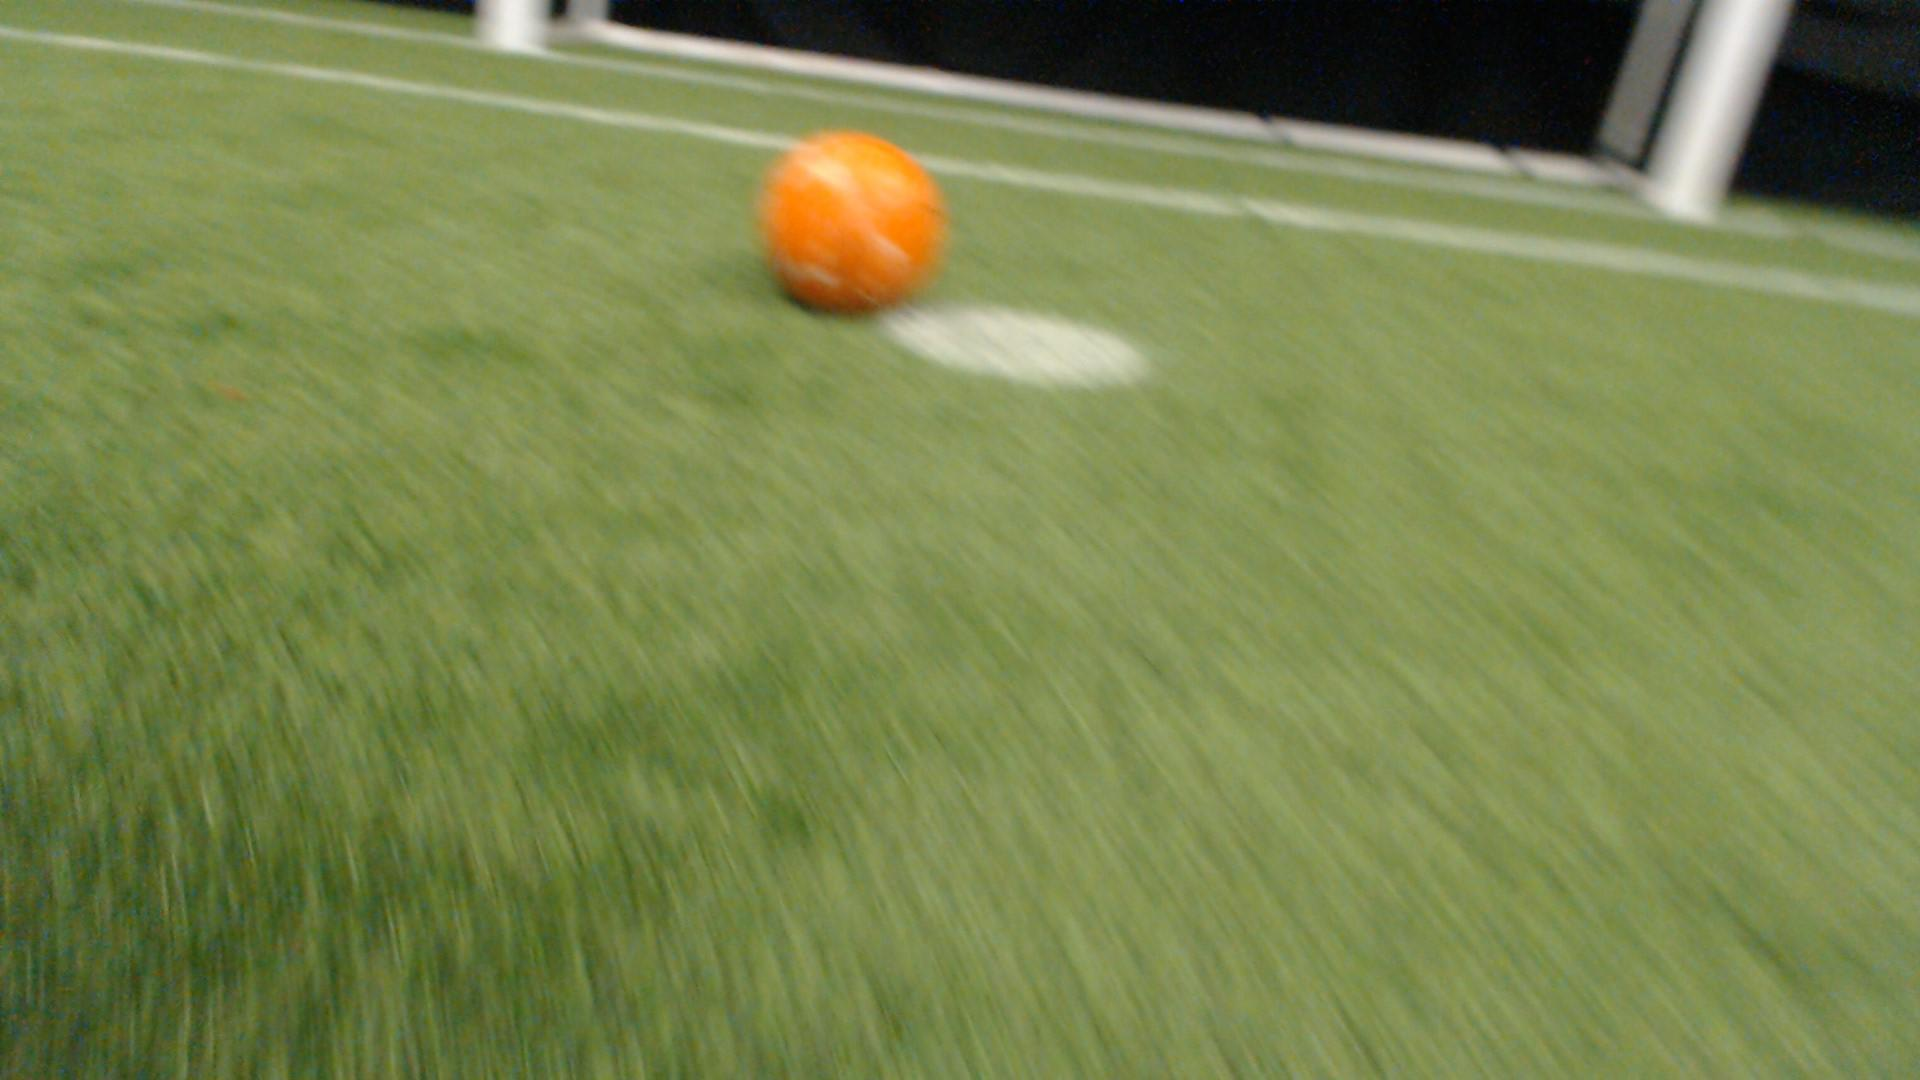bola: (735, 123, 960, 338)
